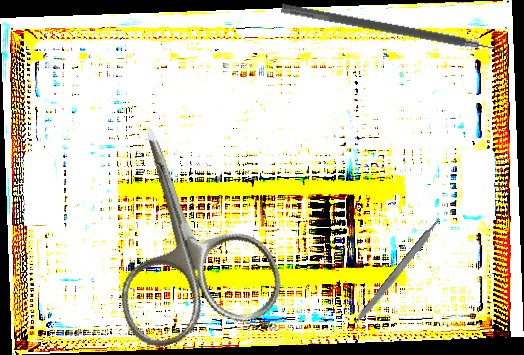Iris Scissors: (73, 103, 290, 355)
Scalpel Handle: (353, 216, 444, 327)
Spatula Surgical: (279, 3, 510, 63)
